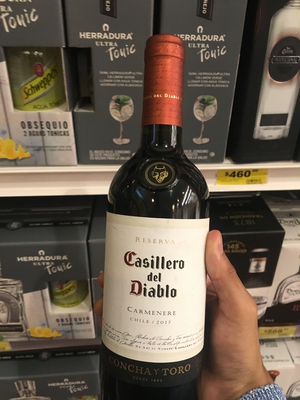casillero del diablo carmenere: (105, 29, 227, 400)
